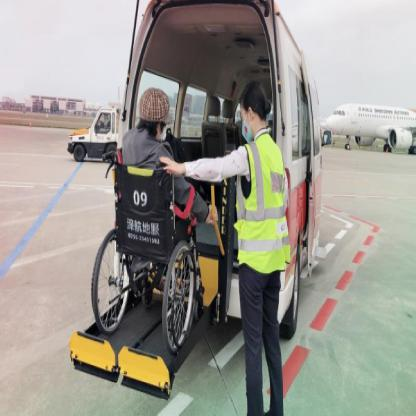wheelchair: (96, 84, 206, 350)
